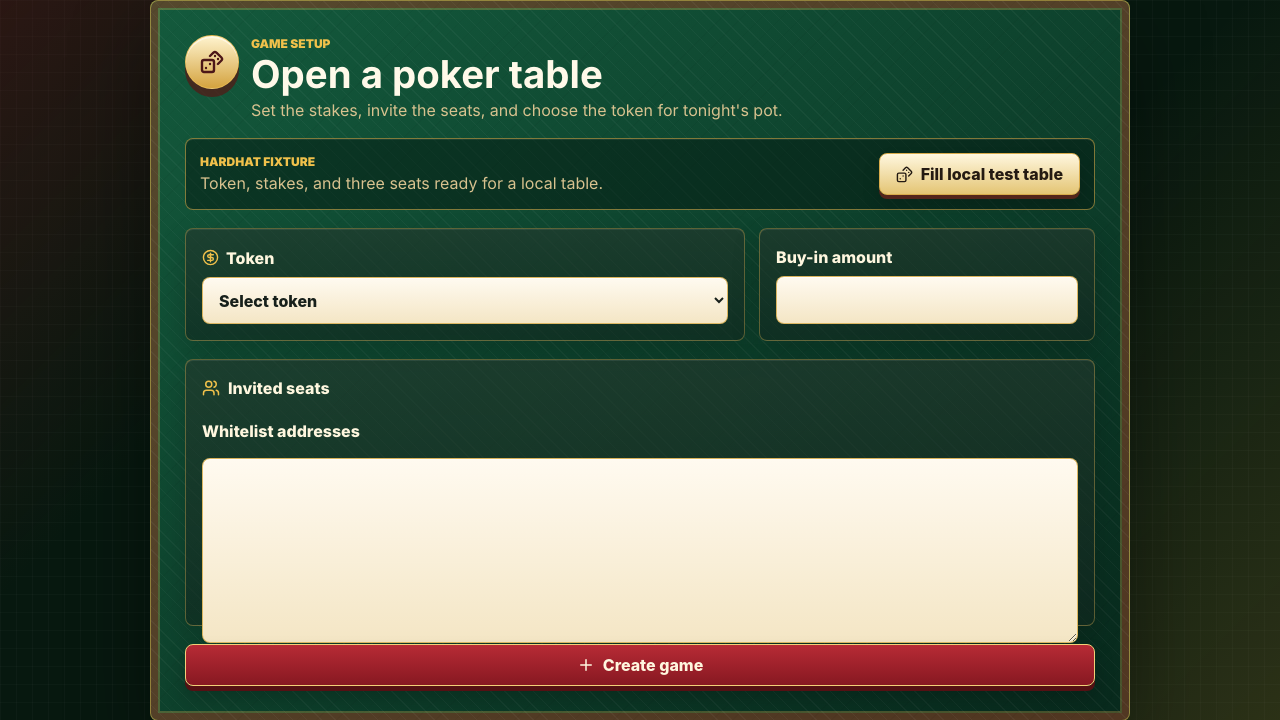
Test: CreateGamePage › fills a valid local hardhat test table
Click the button "Fill local test table" at (979, 174), box [879,154,1080,196]
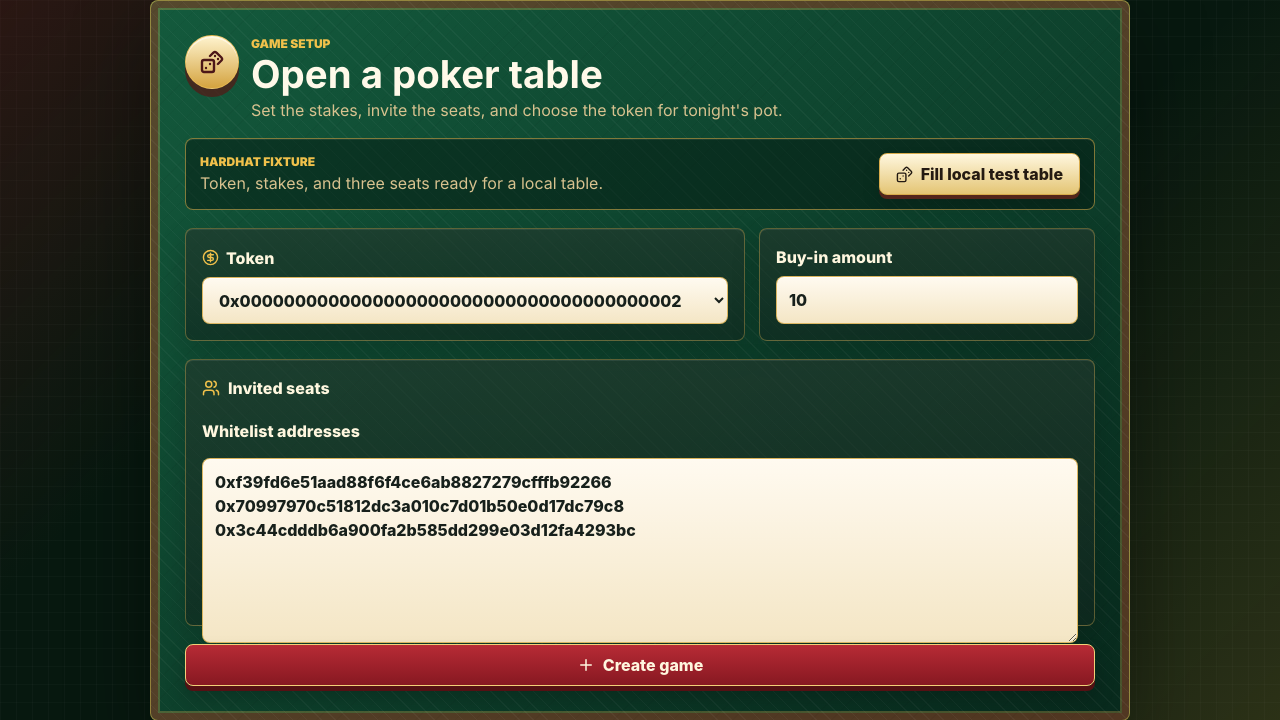
Expected: the dropdown labelled "Token" shows "0x0000000000000000000000000000000000000002", [202,278,728,324]
Expected: the field labelled "Buy-in amount" holds "10", [776,276,1078,324]
